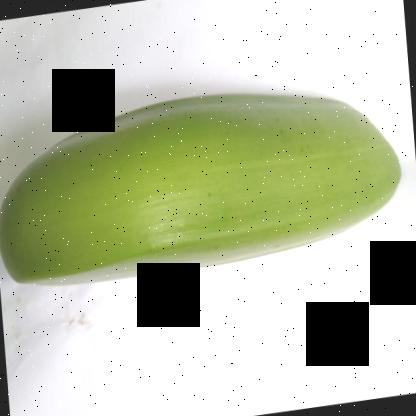freshunripe: (1, 78, 408, 310)
